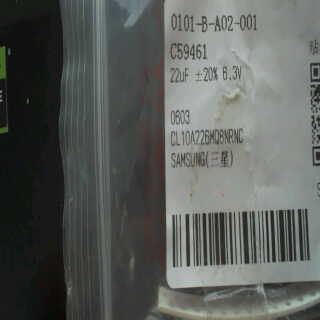22uF: (168, 64, 191, 84)
